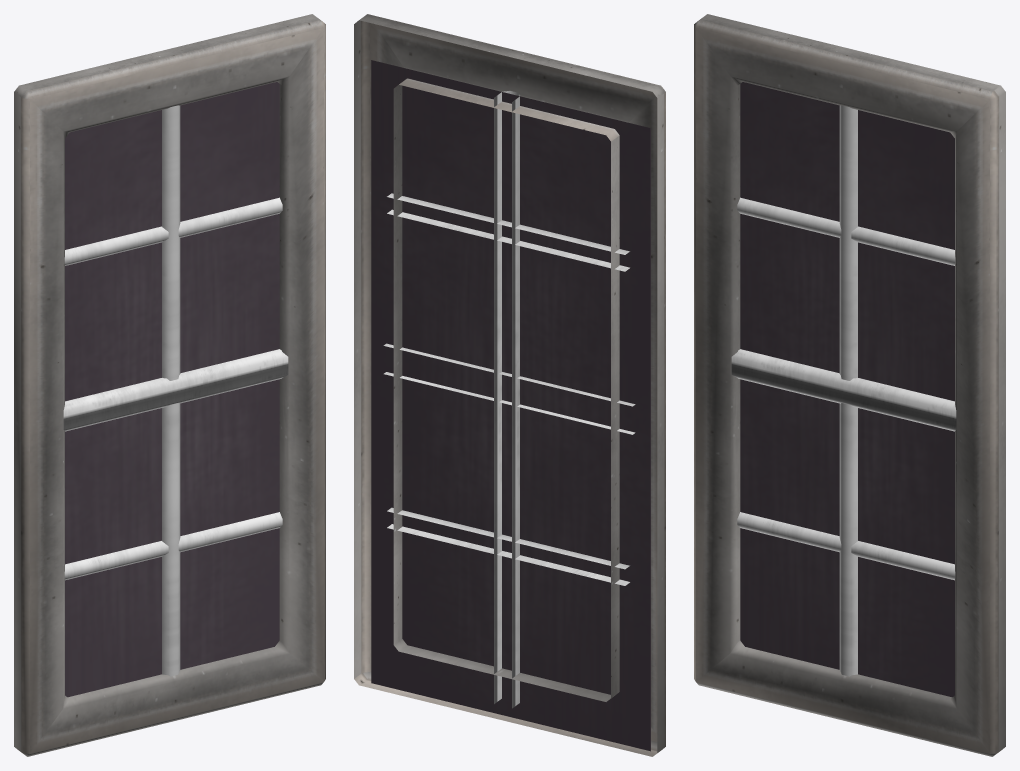
File: SM_Window_03.fbx
3 views of the same model, side by side, from view 1: azimuth 30°, elevation 25°; view 2: azimuth 150°, elevation 25°; view 3: azimuth 330°, elevation 25° (orthographic).
Visible parts, largest first — view 1: SM_Window_03; view 2: SM_Window_03; view 3: SM_Window_03.
Boxes of the visible parts, x1,y1,x2,y2 form: SM_Window_03: [14, 14, 325, 756]; SM_Window_03: [354, 14, 665, 756]; SM_Window_03: [694, 14, 1005, 756].
Size of the model in its own units: 86.11 by 7.18 by 180.
